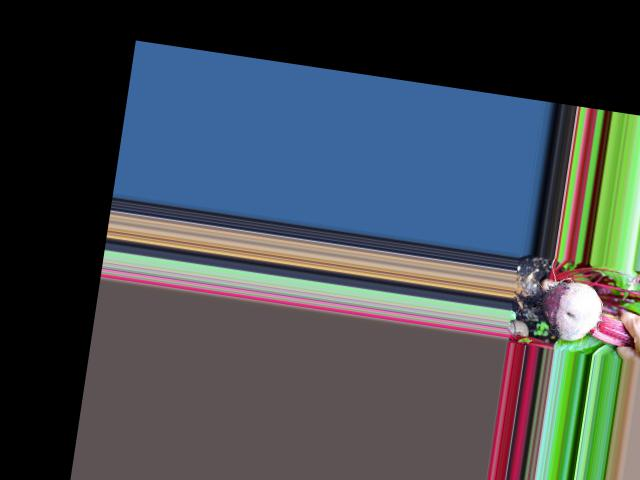beet: (507, 272, 640, 350)
